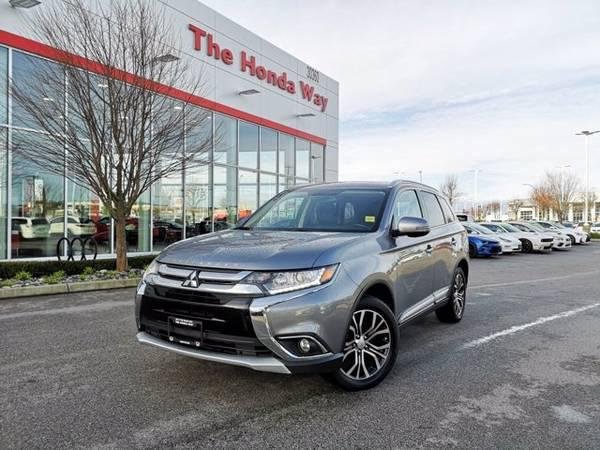Front_Bumper: (250, 262, 363, 365)
Front_Fender: (314, 232, 399, 314)
Front_Left_Door: (392, 229, 435, 321)
Front_Left_Window: (393, 191, 429, 237)
Front_Windshield: (239, 188, 391, 235)
Grille: (137, 259, 290, 371)
Hood: (159, 231, 367, 269)
Left_Headlight: (241, 260, 344, 294)
Rear_Fender: (439, 195, 469, 261)
Rear_Left_Door: (428, 220, 456, 302)
Rear_Left_Window: (419, 191, 447, 225)
Roof: (289, 179, 462, 231)
Wheel: (333, 293, 402, 384), (435, 268, 469, 324)
